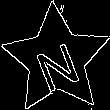N_N: (29, 28, 84, 91)
